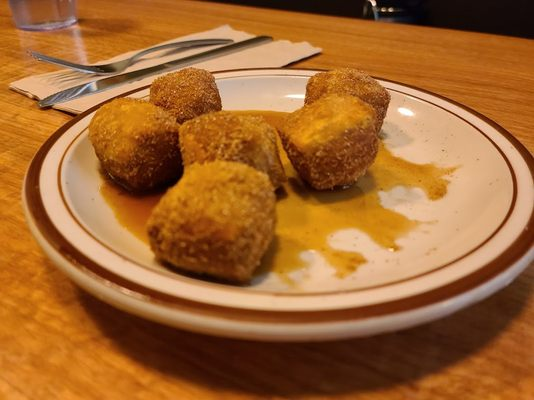burger: (25, 34, 274, 112)
pizza: (7, 0, 79, 32)
